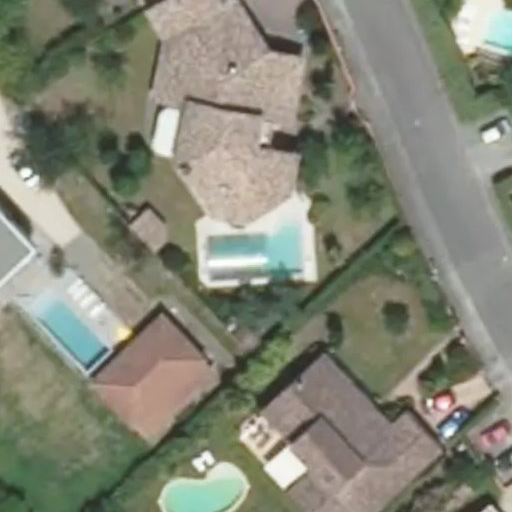pool: (208, 215, 303, 267)
